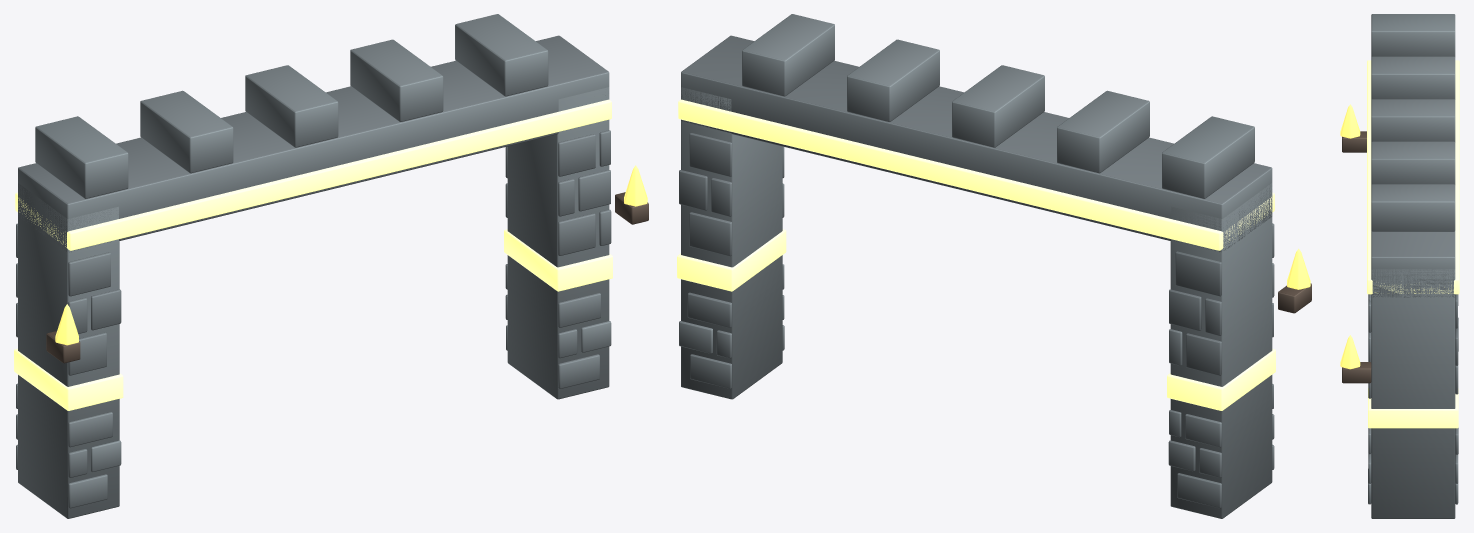
File: castle_gate_b.glb
3 views of the same model, side by side, from view 1: azimuth 30°, elevation 25°; view 2: azimuth 150°, elevation 25°; view 3: azimuth 270°, elevation 25° (orthographic). The views are drawn at different scales.
Visible parts, largest first — view 1: castle_gate_b; view 2: castle_gate_b; view 3: castle_gate_b.
Part boxes in pixels (x1=…): castle_gate_b: x1=14, y1=14, x2=648, y2=518; castle_gate_b: x1=677, y1=14, x2=1311, y2=518; castle_gate_b: x1=1340, y1=14, x2=1459, y2=518.
Size of the model in its own units: 6.76 by 3.85 by 1.42.
Materials: 3 (1 with a texture image).
